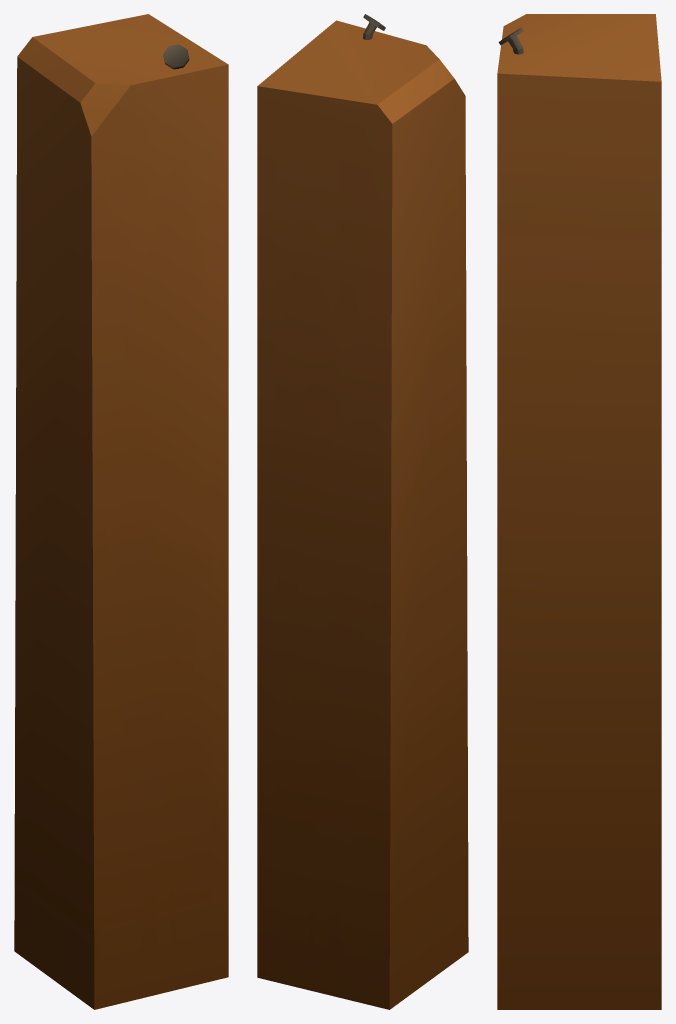
Rendered from Fence_Post_B.fbx.
The picture shows the model from 3 angles, left to right: view 1: azimuth 30°, elevation 25°; view 2: azimuth 150°, elevation 25°; view 3: azimuth 270°, elevation 25°; orthographic projection. The views are drawn at different scales.
Parts seen in each view (by area): view 1: Fence_Post_B; view 2: Fence_Post_B; view 3: Fence_Post_B.
Part boxes in pixels (x1,y1,x2,y2): Fence_Post_B: (14,14,228,1009); Fence_Post_B: (257,14,468,1009); Fence_Post_B: (497,14,661,1009).
Bounding box in the file's own units: 19.65 × 20.3 × 131.
Materials: 1 (1 with a texture image).
